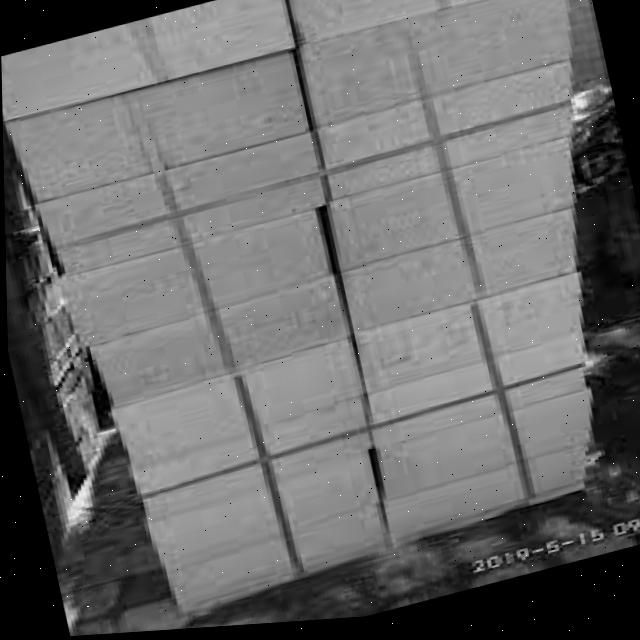bricks: (1, 0, 588, 608)
